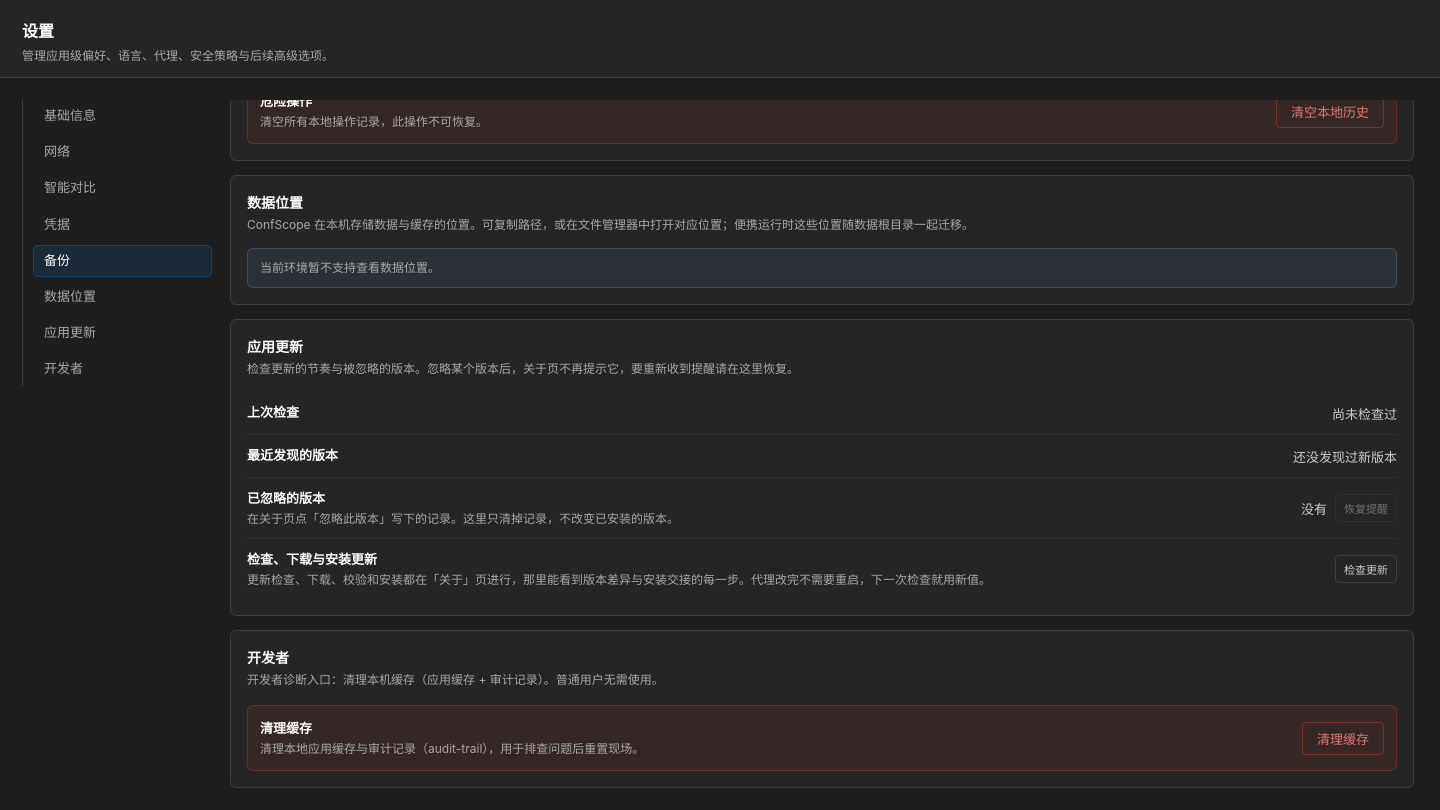
Test: SettingsView › asks in an app modal before clearing the local cache
(page scrolled)
Click the button "清理缓存" at (1343, 738), box [1302, 722, 1384, 754]
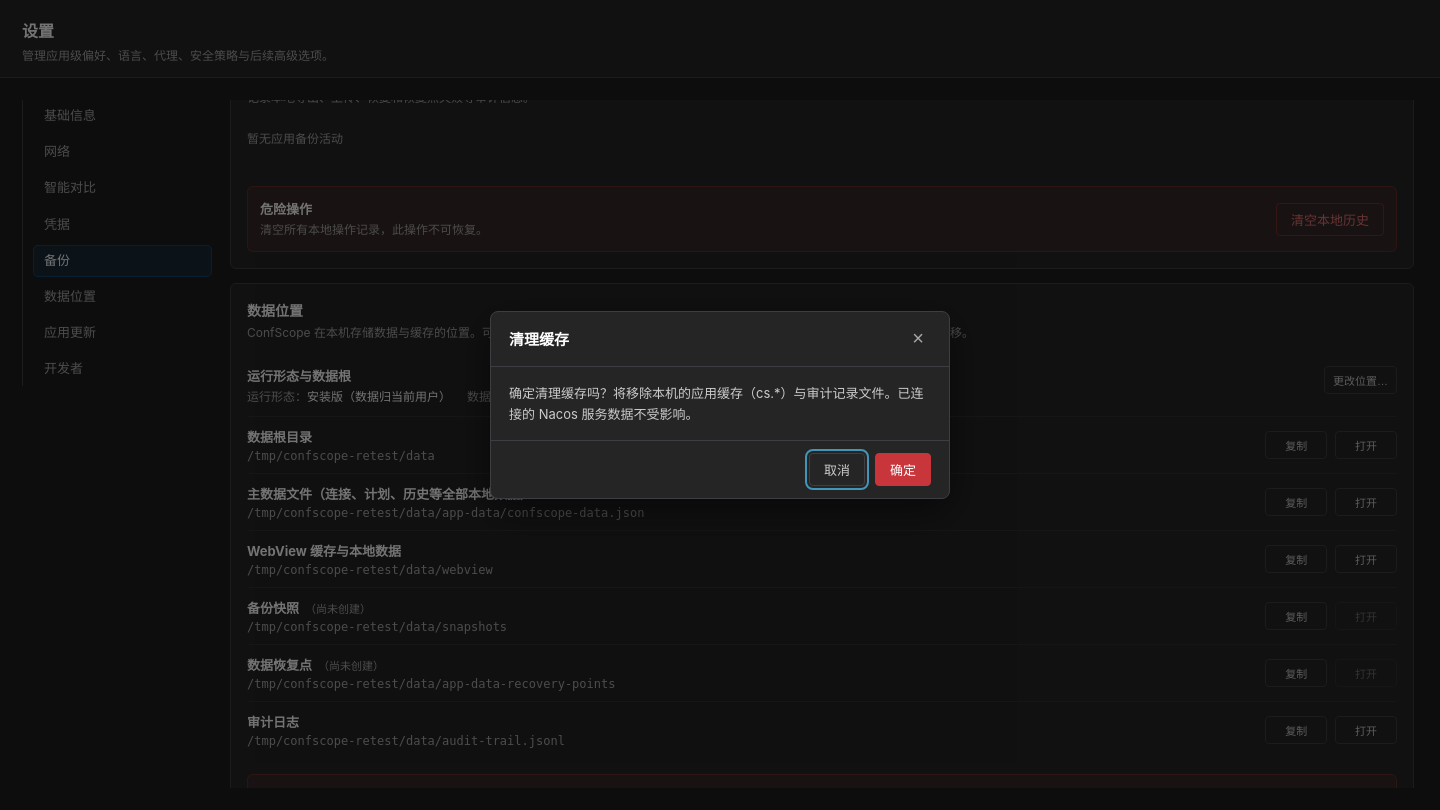
Expected: the text "确定清理缓存吗？将移除本机的应用缓存（cs.*）与审计记录文件。已连接的 Nacos 服务数据不受影响。" is shown, [509, 383, 931, 424]
Expected: the element with class "modal-overlay" is shown
Click the button "确定" at (903, 470), box [875, 453, 931, 486]
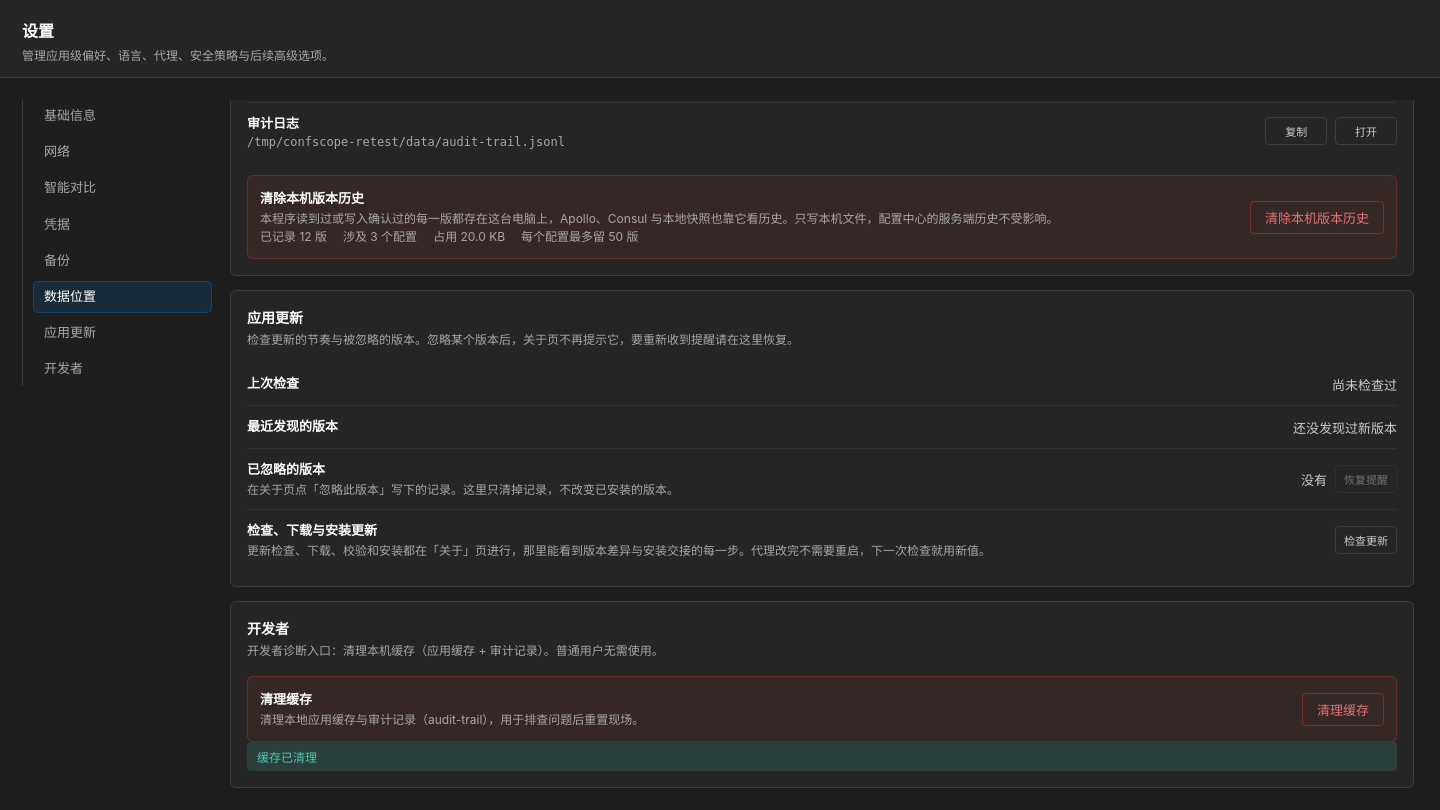
Expected: the text "缓存已清理" is shown, [247, 742, 1397, 771]
